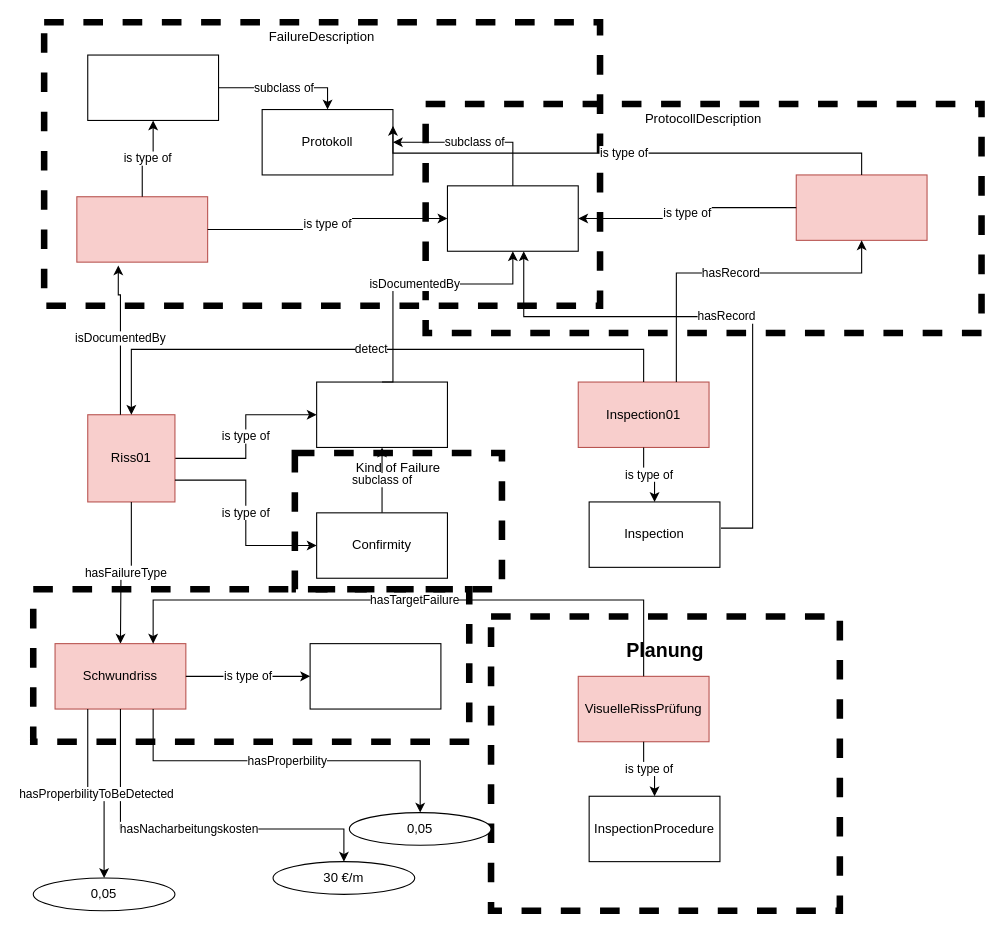
The diagram is 1004 pixels wide and 932 high, and some of its shapes have lost their labels. The shapes that lost their labels are listed below. From the top down, each one's box as (x1, y1, x2, y2) in pixels, then its label:
(87, 54, 219, 120): SchwundrissProtokoll
(446, 185, 578, 251): Record
(795, 174, 927, 240): Inspection01Protocoll
(76, 196, 208, 262): SchundrissProtkoll01
(316, 381, 447, 447): Failure
(29, 585, 472, 744): Fehler Klassifikation
(309, 643, 441, 709): FailureType
